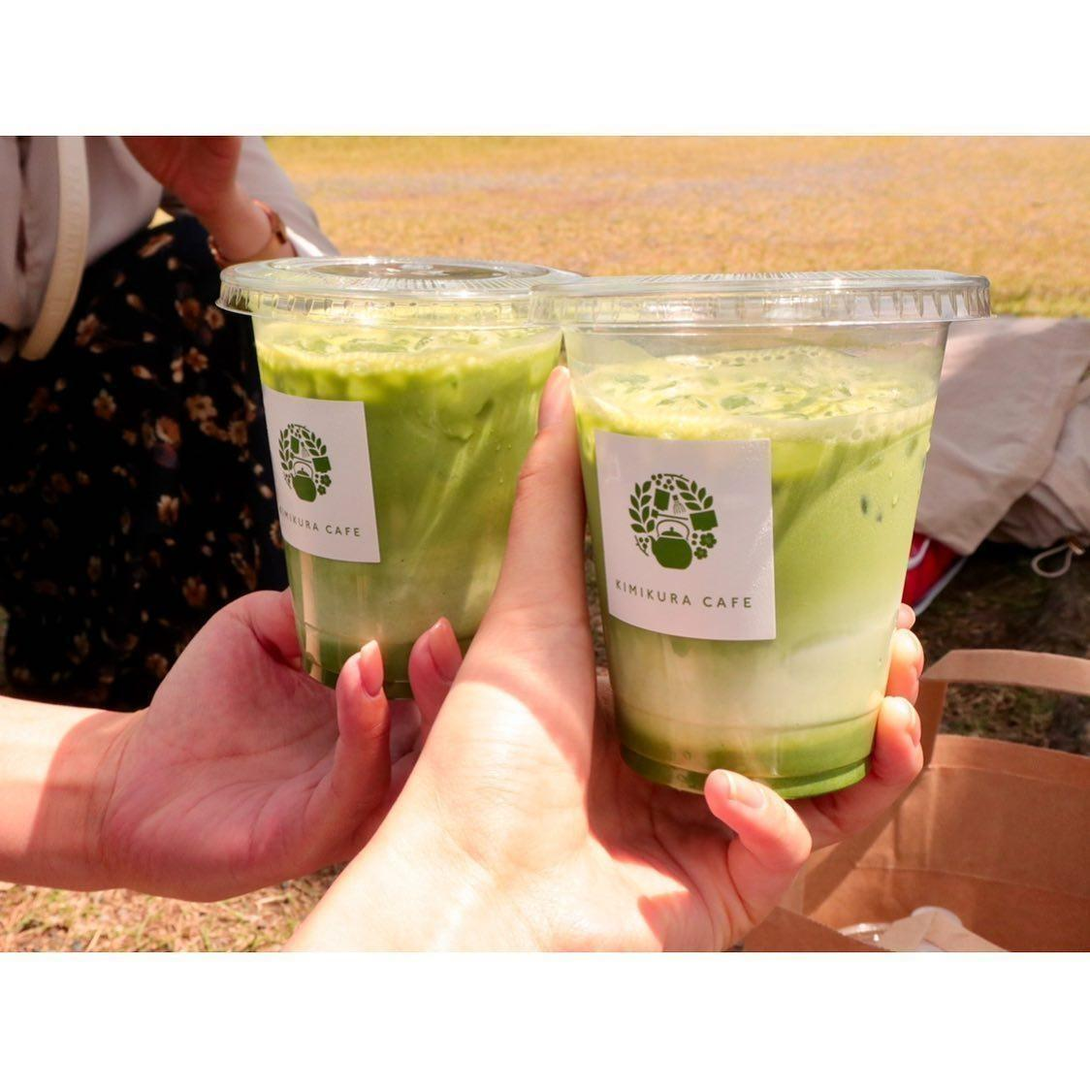cup-disposable: (554, 255, 1001, 808), (211, 236, 572, 697)
